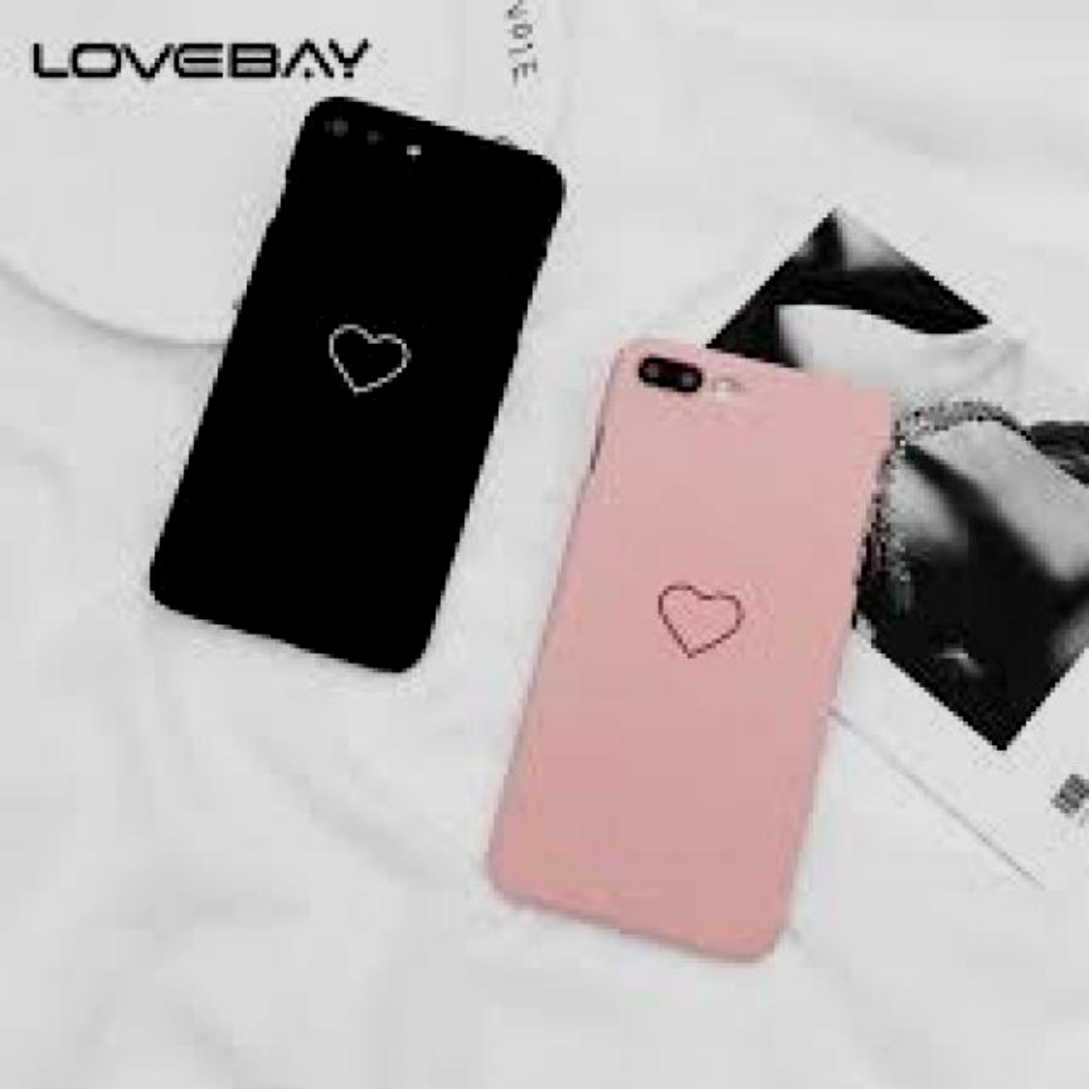phone: (478, 336, 900, 966), (151, 94, 567, 675)
